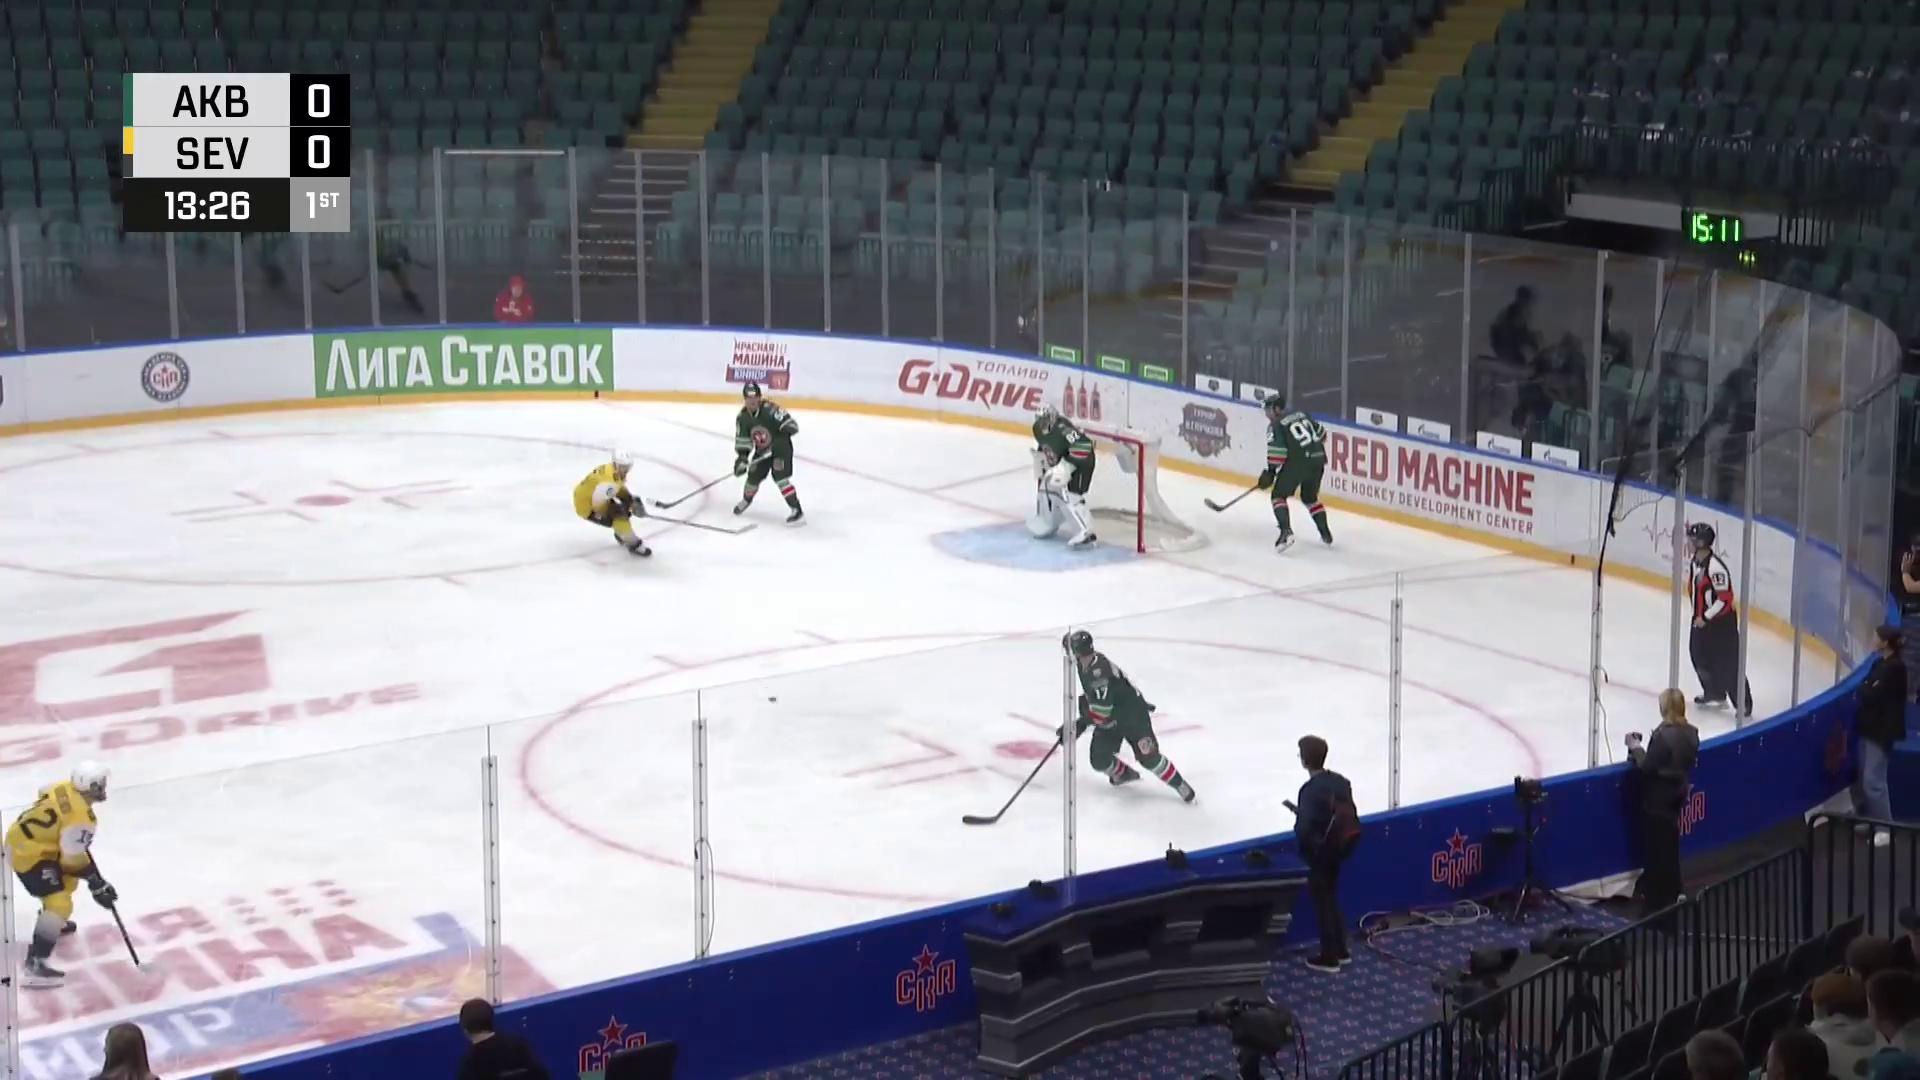ball: (767, 696, 779, 703)
